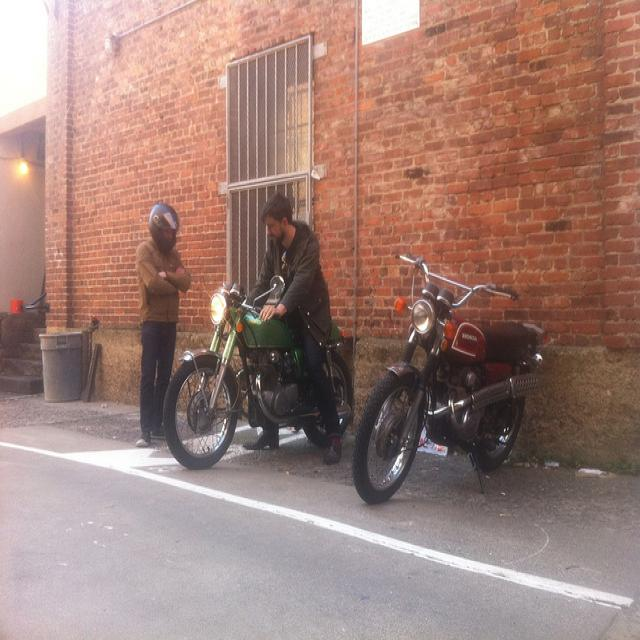motor: (346, 242, 547, 506), (169, 286, 349, 472)
